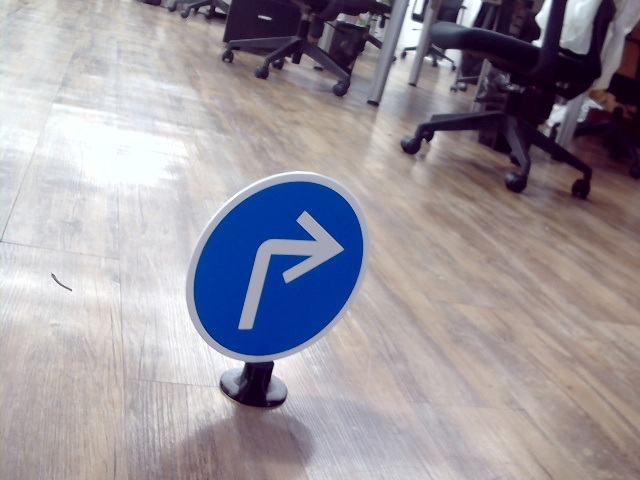turn_right: (240, 211, 334, 332)
